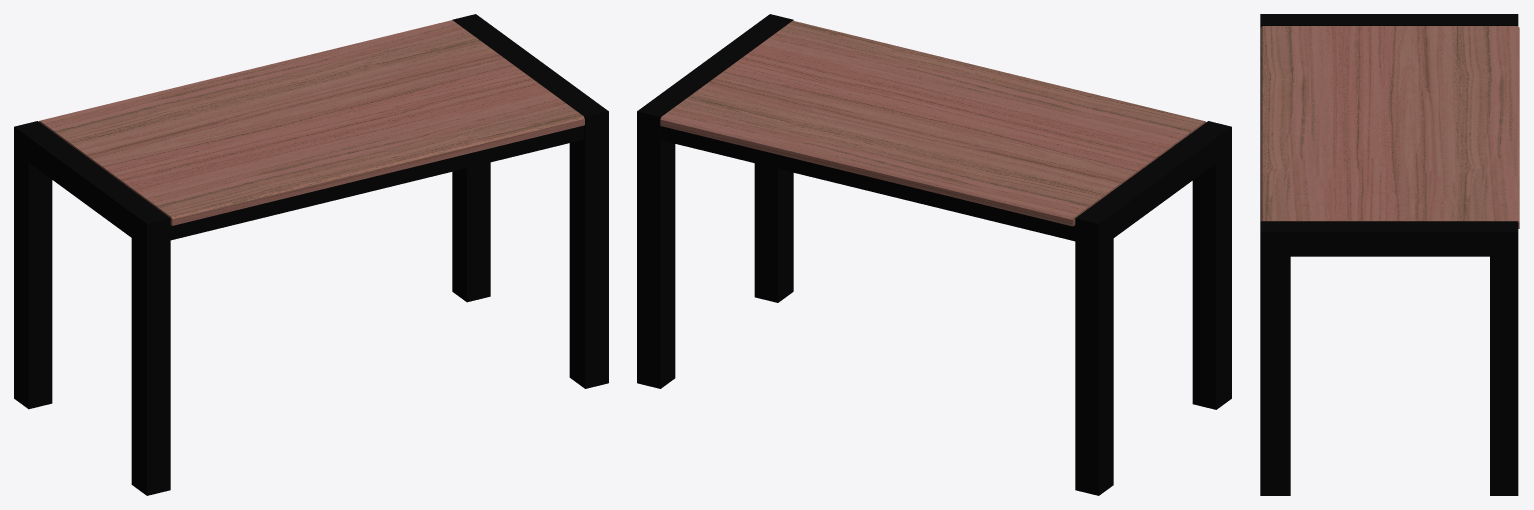
File: 010_Butaca_Ankara_Individual.glb
The picture shows the model from 3 angles, left to right: view 1: azimuth 30°, elevation 25°; view 2: azimuth 150°, elevation 25°; view 3: azimuth 270°, elevation 25°; orthographic projection. The views are drawn at different scales.
Parts seen in each view (by area): view 1: Box079; view 2: Box079; view 3: Box079.
Boxes of the visible parts, <box> form: Box079: <box>14,14,608,495</box>; Box079: <box>637,14,1231,495</box>; Box079: <box>1260,14,1519,495</box>.
Bounding box in the file's own units: 0.7987 × 0.4495 × 0.4004.
2 materials, 1 textured.
